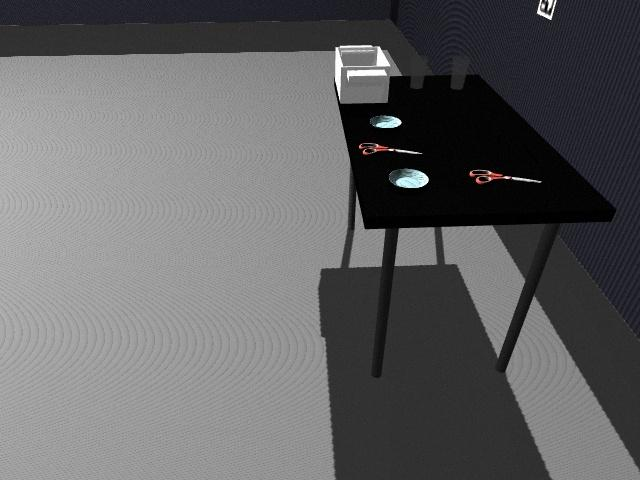cup: (450, 54, 469, 91), (409, 60, 426, 90)
plate: (386, 167, 431, 189), (368, 114, 403, 129)
scissors: (469, 169, 541, 185), (358, 142, 420, 156)
